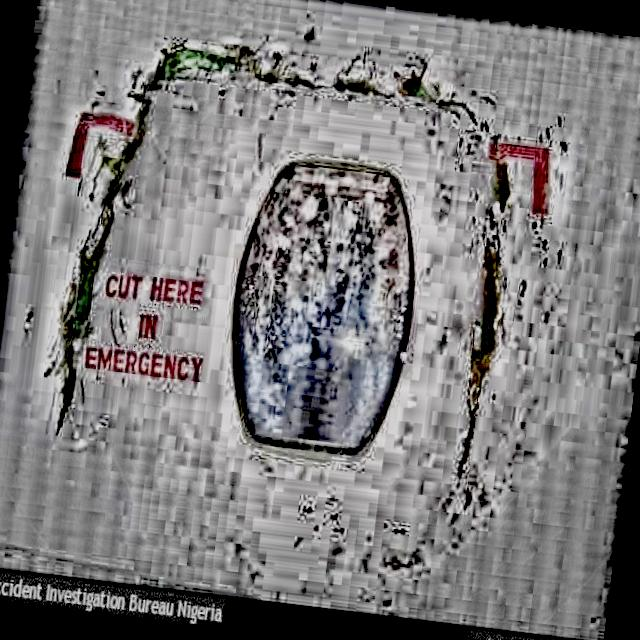crack: (34, 132, 140, 446), (448, 237, 512, 492), (153, 35, 239, 85), (402, 68, 439, 109)
